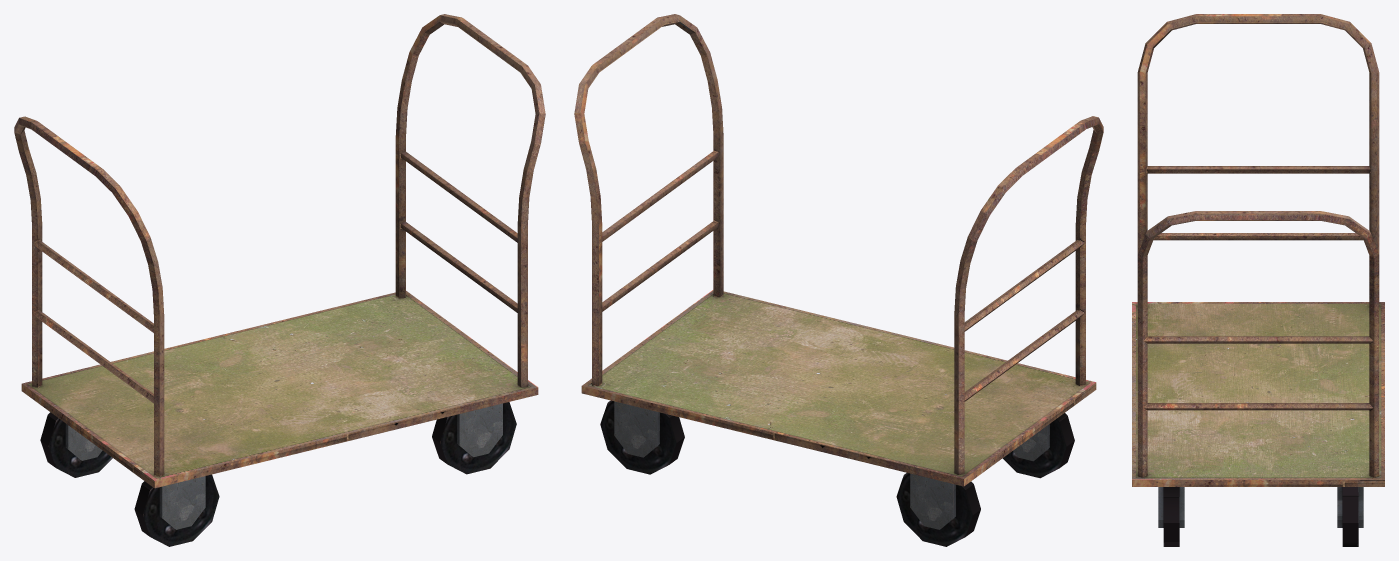
File: trans3.fbx
3 views of the same model, side by side, from view 1: azimuth 30°, elevation 25°; view 2: azimuth 150°, elevation 25°; view 3: azimuth 270°, elevation 25° (orthographic). The views are drawn at different scales.
Visible parts, largest first — view 1: trans3_Layer1; view 2: trans3_Layer1; view 3: trans3_Layer1.
Boxes of the visible parts, left/top/right/bottom form: trans3_Layer1: left=14, top=14, right=545, bottom=546; trans3_Layer1: left=574, top=14, right=1103, bottom=546; trans3_Layer1: left=1132, top=14, right=1384, bottom=546.
Size of the model in its own units: 181 by 150 by 96.
1 material, 1 textured.
